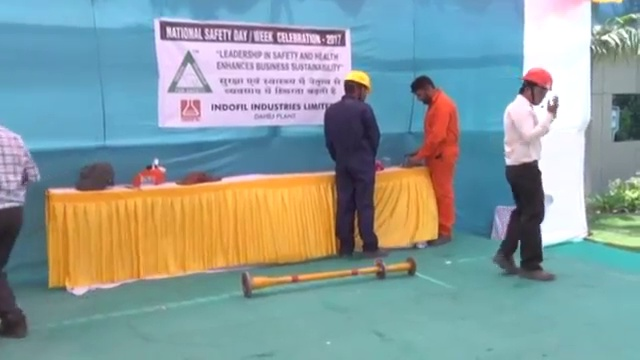helmet: (343, 68, 374, 94), (520, 67, 553, 91)
helmet_off: (411, 74, 440, 105)
helmet_on: (518, 68, 553, 108), (338, 68, 375, 103)
person: (323, 67, 391, 258), (495, 66, 555, 281), (1, 121, 42, 341), (408, 74, 458, 246)
